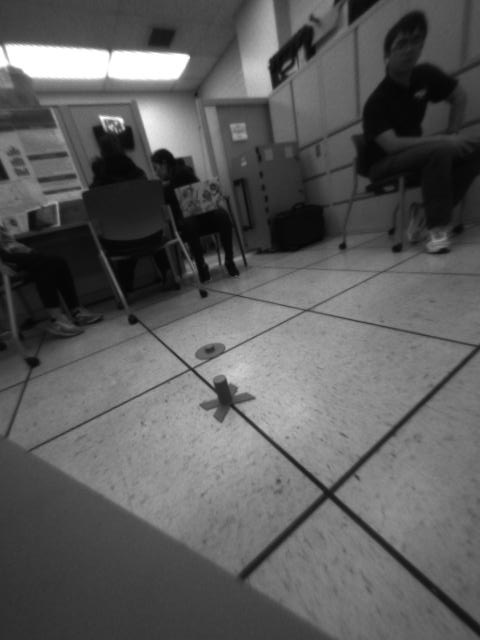X: (200, 375, 258, 423)
